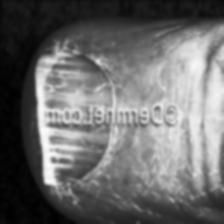Toxin: (34, 44, 116, 191)
